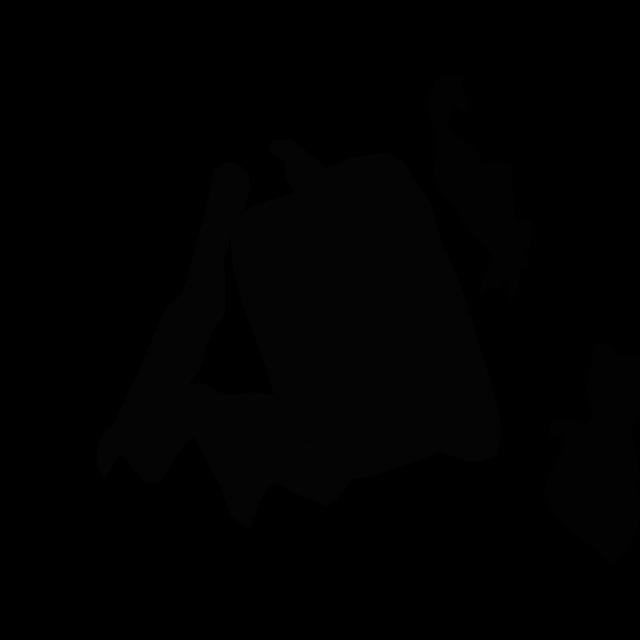cardboard: (428, 73, 532, 303), (544, 344, 640, 567)
soft_plastic: (230, 139, 501, 497), (96, 162, 250, 480), (136, 383, 339, 530)
